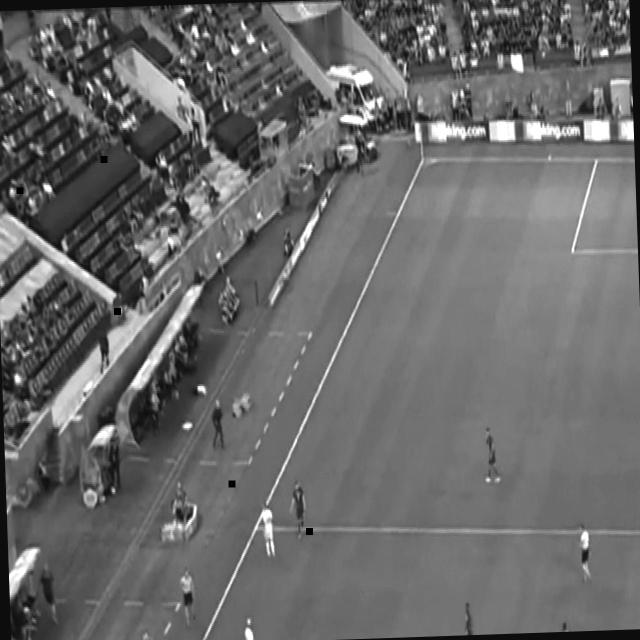player-white: (288, 479, 308, 540), (178, 568, 197, 628), (483, 427, 502, 482), (260, 499, 276, 558), (577, 523, 591, 584), (462, 601, 478, 635), (241, 615, 260, 640), (556, 618, 572, 632)
